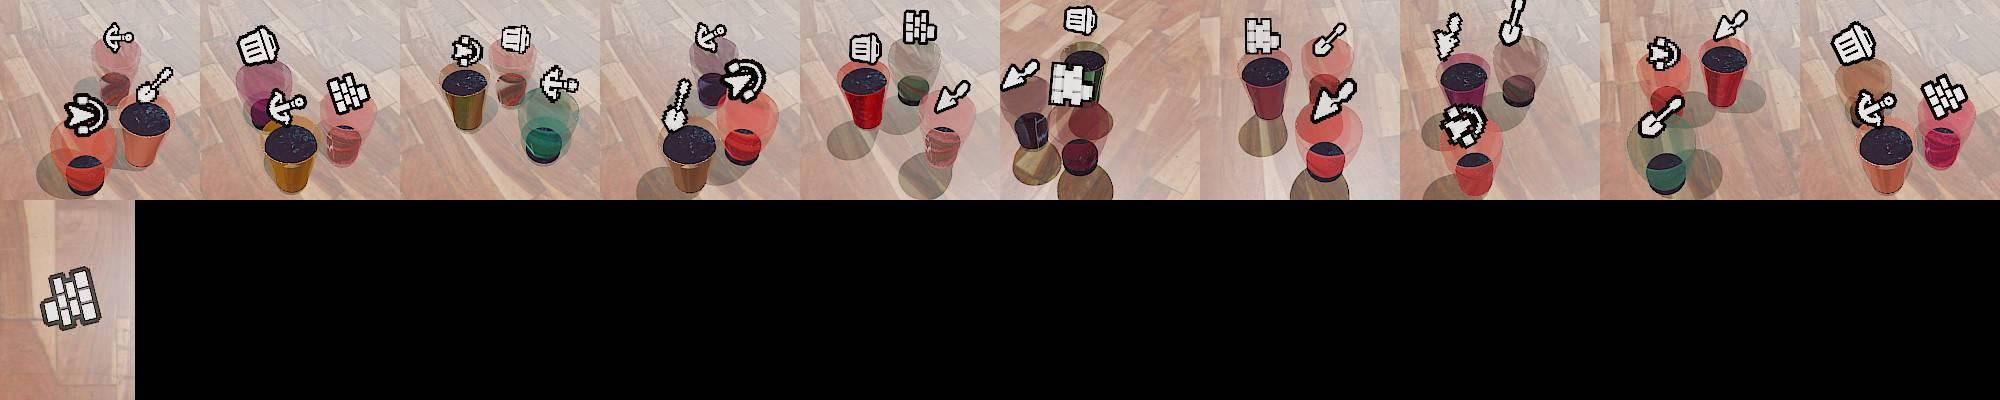icon: (40, 265, 102, 331), (1921, 71, 1968, 121), (1048, 60, 1096, 108), (1307, 76, 1356, 124), (1830, 20, 1878, 66), (61, 92, 110, 136), (327, 69, 372, 115), (721, 57, 767, 103), (1639, 92, 1684, 138), (237, 24, 281, 69), (661, 76, 694, 134), (1852, 88, 1898, 127), (538, 64, 580, 103), (267, 88, 310, 126), (1432, 11, 1466, 61), (932, 76, 973, 116), (1244, 15, 1282, 56), (136, 65, 173, 106), (1000, 59, 1041, 93), (1497, 0, 1528, 46), (902, 8, 937, 46), (1645, 36, 1681, 71), (1712, 9, 1749, 43), (1311, 23, 1347, 57), (1062, 5, 1098, 38), (1446, 108, 1483, 140), (450, 33, 483, 68), (848, 32, 881, 66), (499, 24, 533, 56), (695, 22, 727, 54), (103, 22, 134, 54)
